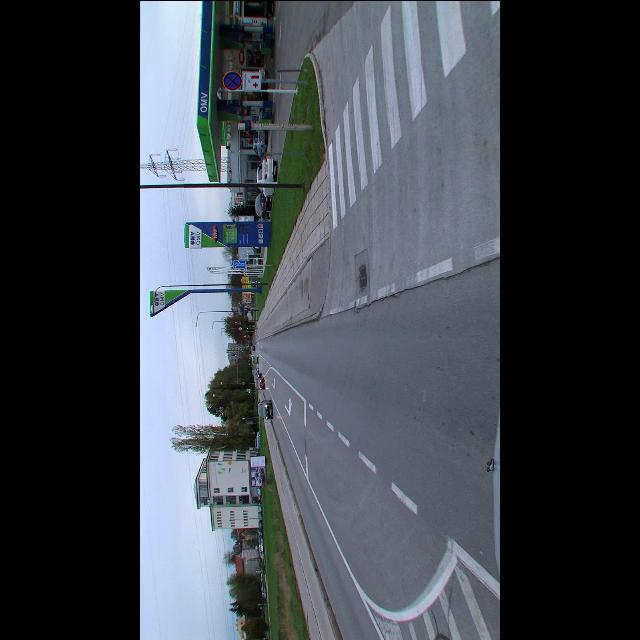Round: (224, 70, 244, 88)
Squared: (245, 71, 262, 91), (232, 259, 245, 267)
